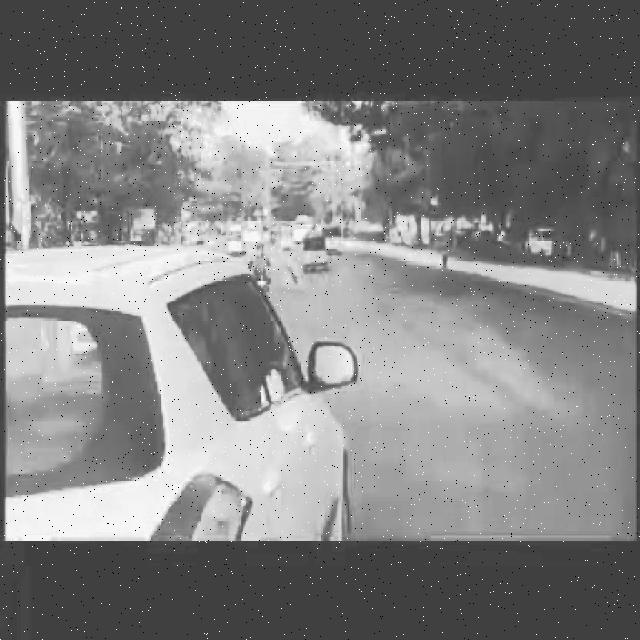Car: (1, 214, 372, 531)
